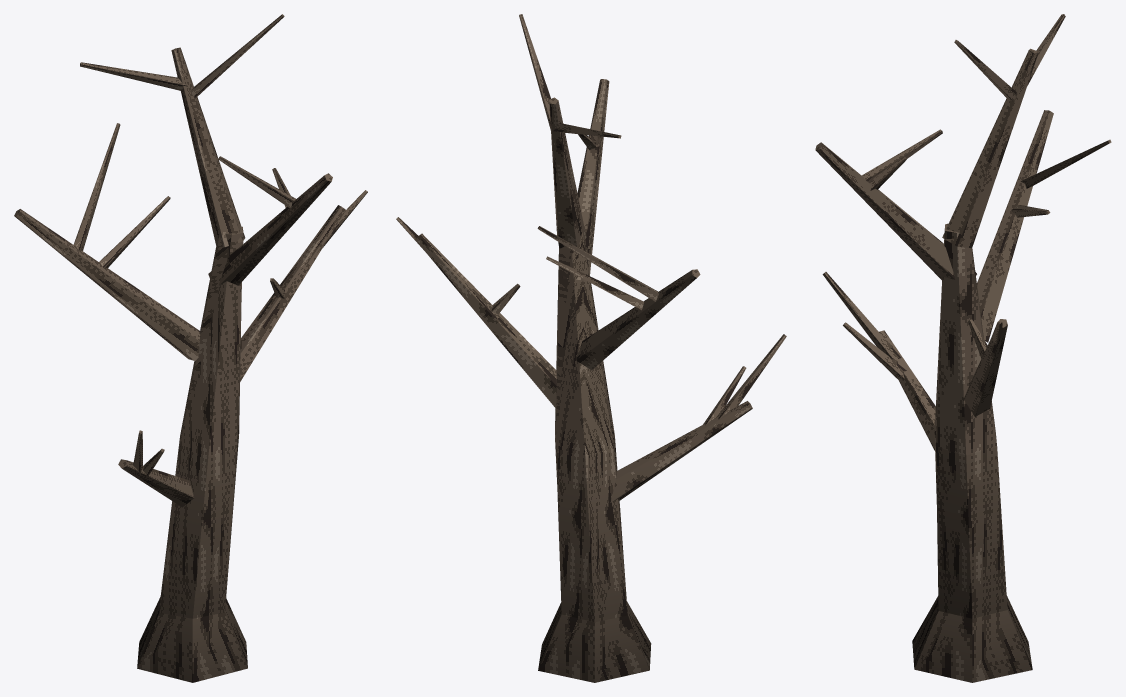
File: tree_dead.glb
3 views of the same model, side by side, from view 1: azimuth 30°, elevation 25°; view 2: azimuth 150°, elevation 25°; view 3: azimuth 270°, elevation 25° (orthographic). The views are drawn at different scales.
Visible parts, largest first — view 1: tree_dead; view 2: tree_dead; view 3: tree_dead.
Part boxes in pixels (x1,y1,x2,y2): tree_dead: [14, 14, 367, 682]; tree_dead: [396, 14, 786, 682]; tree_dead: [815, 14, 1111, 682].
Size of the model in its own units: 2.61 by 4.74 by 1.93.
Materials: 1 (1 with a texture image).
